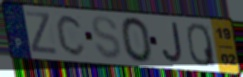C: (55, 13, 88, 58)
J: (161, 22, 185, 65)
O: (119, 16, 155, 65)
Q: (185, 22, 218, 68)
S: (91, 14, 123, 61)
Z: (23, 10, 60, 56)
